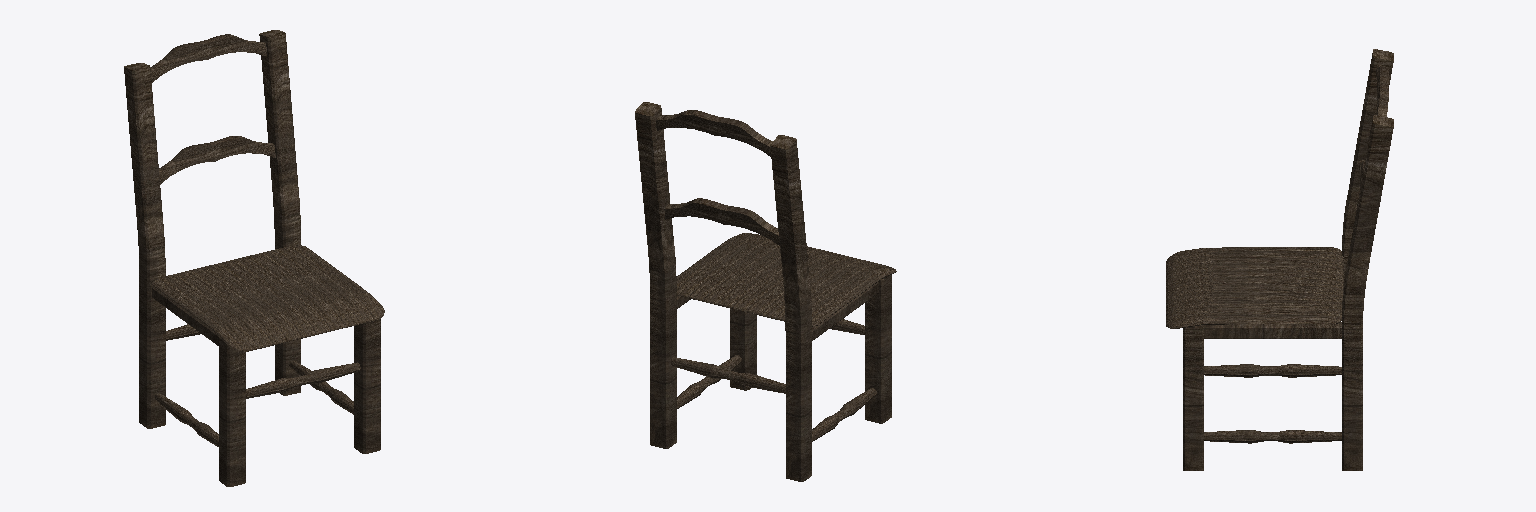
3 renders of one model, left to right at view 1: azimuth 30°, elevation 25°; view 2: azimuth 150°, elevation 25°; view 3: azimuth 270°, elevation 25°, orthographic.
Parts seen in each view (by area): view 1: Chair_3; view 2: Chair_3; view 3: Chair_3.
Boxes of the visible parts, box(x1,y1,x2,y2) form: Chair_3: box(124, 30, 384, 486); Chair_3: box(635, 102, 896, 481); Chair_3: box(1166, 49, 1393, 470).
Bounding box in the file's own units: 0.4232 × 0.9267 × 0.5388.
1 materials, 1 textured.